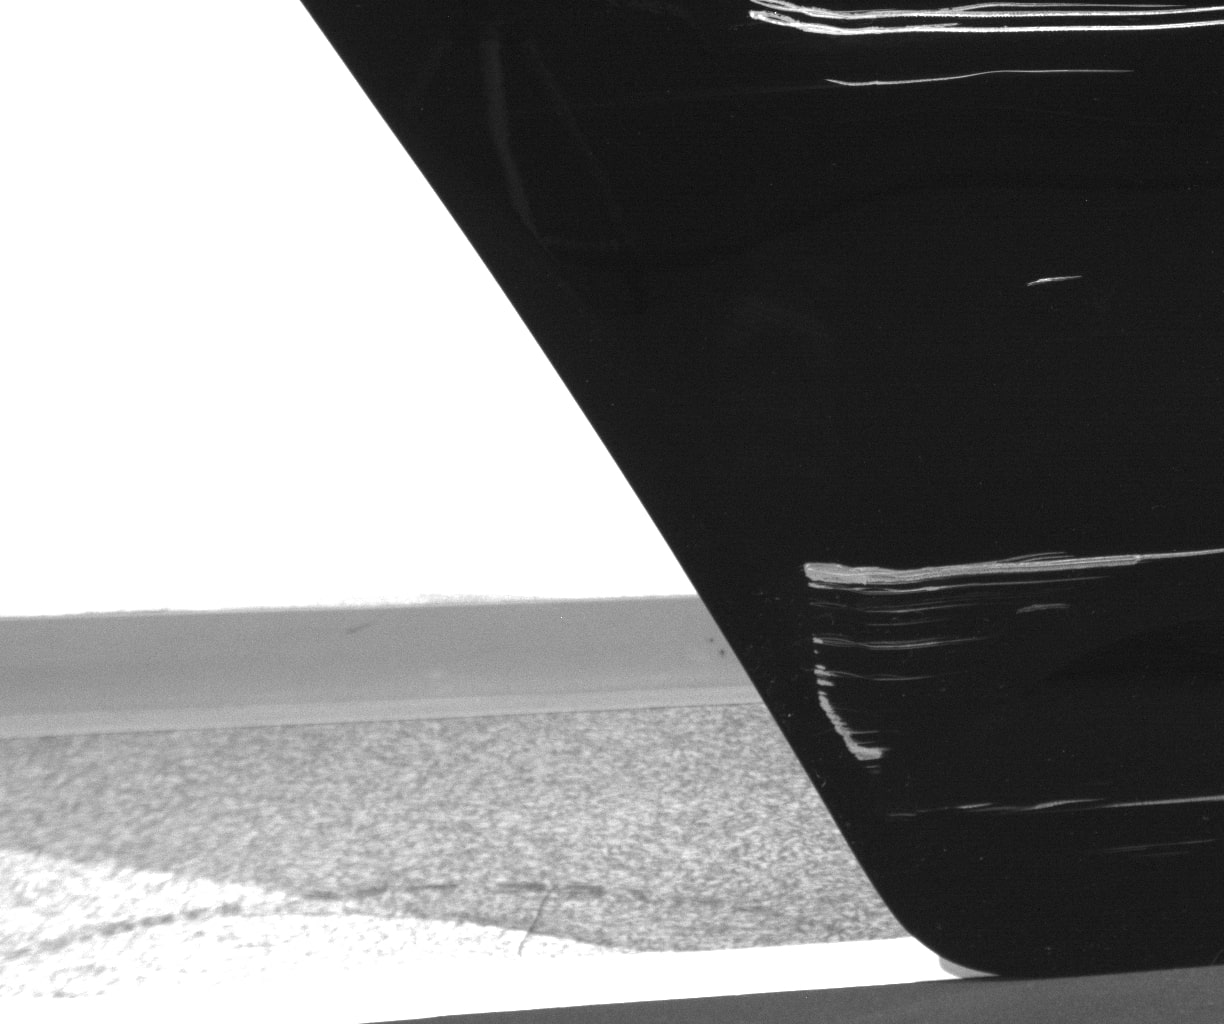scratch: (804, 548, 1224, 760), (748, 1, 1201, 35), (824, 69, 1133, 88), (958, 795, 1224, 812), (1106, 837, 1218, 853), (1025, 274, 1084, 288), (885, 805, 957, 816), (862, 763, 889, 774)
